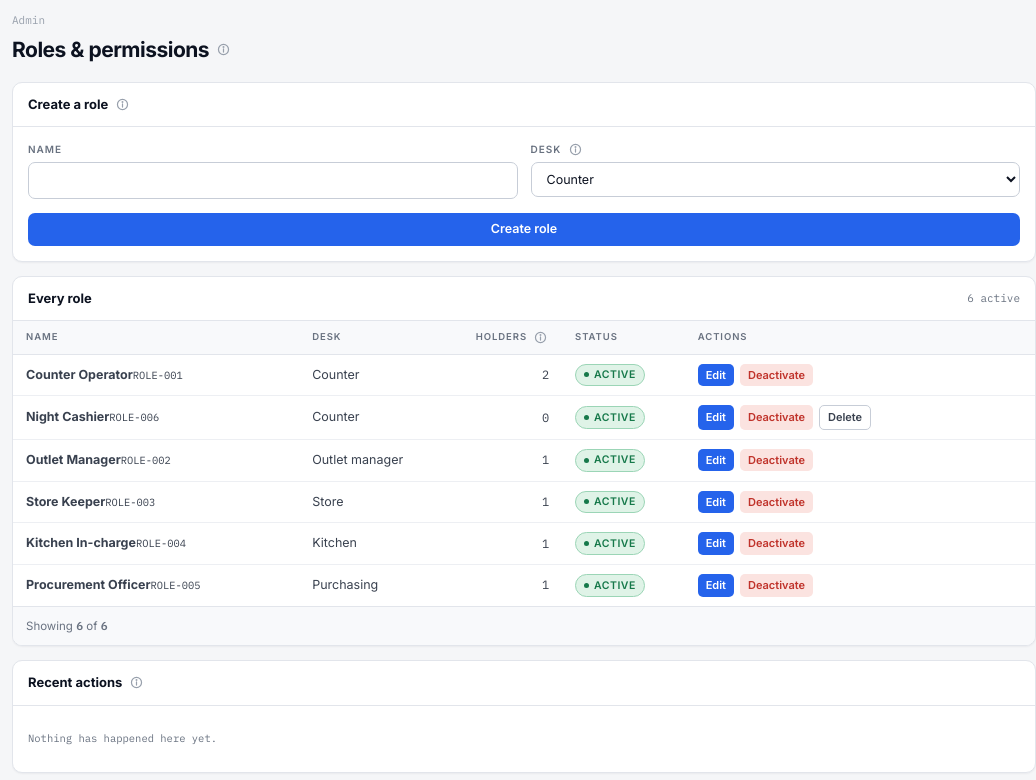
Test case: the Roles tab › switches a role off and back on
Step 1. Click the button "Deactivate" in the row of "Night Cashier" → (776, 418), box [740,405,813,430]
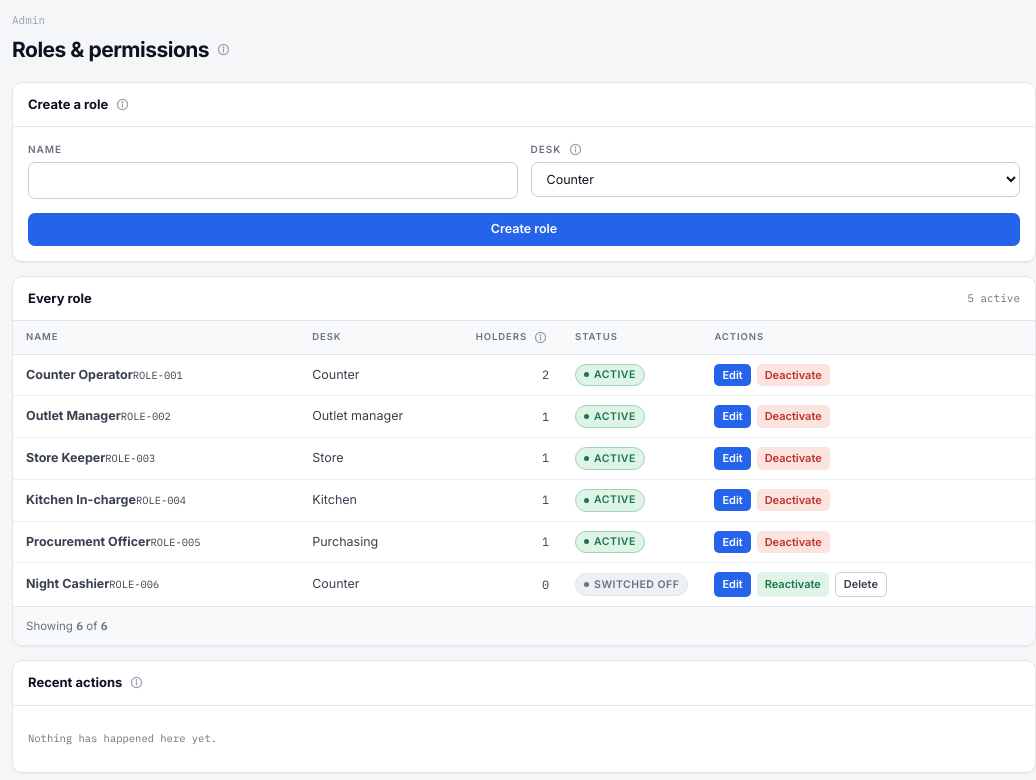
Now the row that starts with "Night Cashier" shows "Switched off", box [594,578,679,591]
Step 2. Click the button "Reactivate" → (793, 585), box [757,572,829,597]
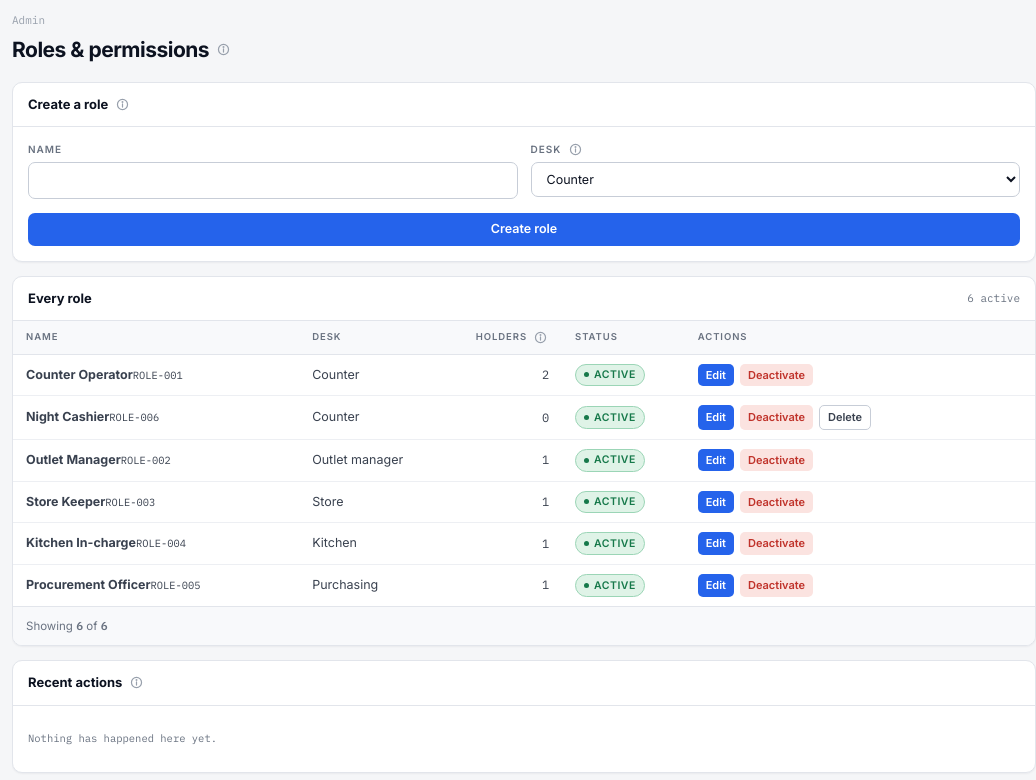
Now the row that starts with "Night Cashier" shows "Active", box [594,411,636,424]
